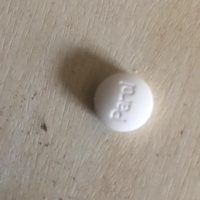Parol: (90, 70, 156, 134)
